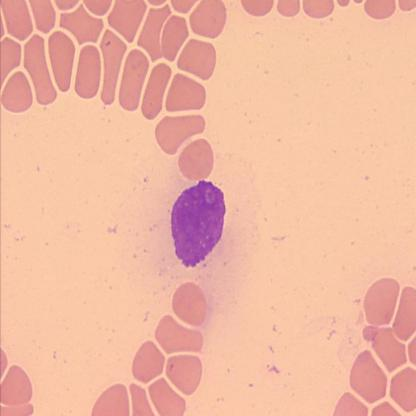Metamyelocyte: (166, 177, 228, 271)
